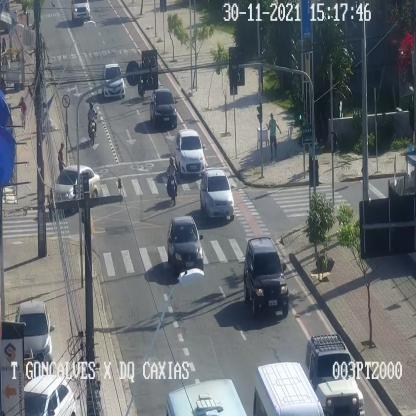bus: (166, 378, 247, 416)
car: (304, 335, 364, 416), (252, 362, 324, 415), (244, 237, 288, 315), (48, 164, 100, 214), (16, 302, 52, 372), (23, 374, 76, 416), (167, 216, 203, 272), (199, 169, 233, 220), (174, 128, 204, 176), (150, 88, 176, 126), (101, 63, 124, 96), (72, 0, 89, 22)
motorbike: (166, 156, 178, 204), (87, 100, 98, 144), (138, 62, 146, 99)
person: (266, 112, 276, 160), (18, 96, 27, 134), (58, 143, 65, 173)
